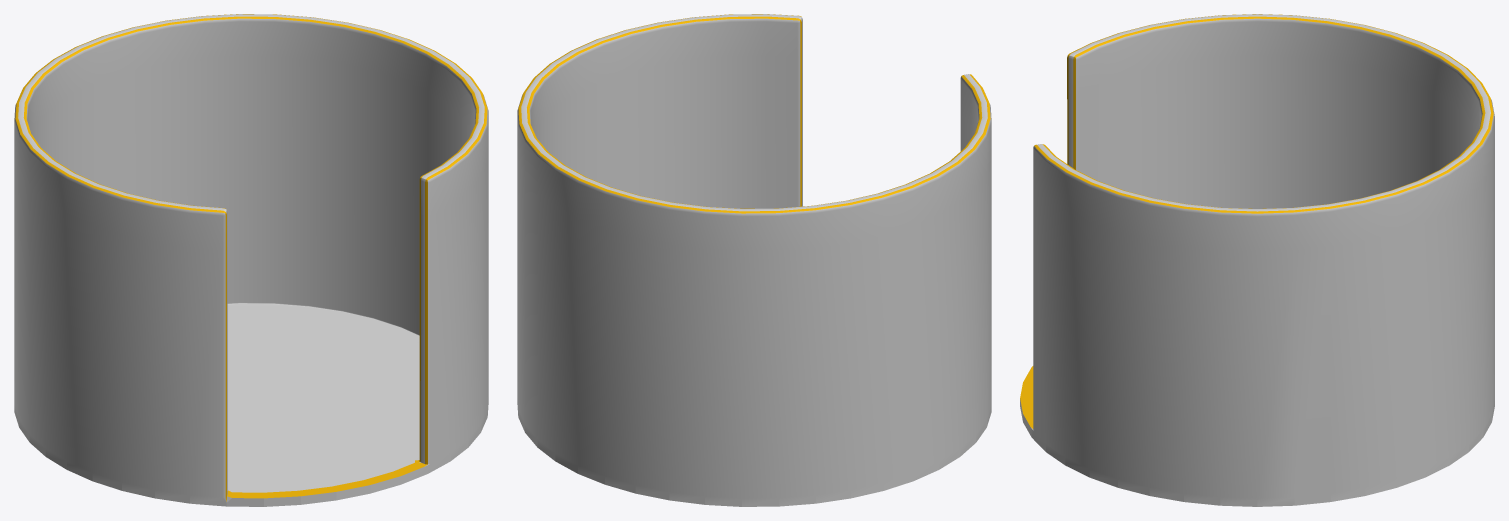
Rendered from elevatorPlatform2.fbx.
3 views of the same model, side by side, from view 1: azimuth 30°, elevation 25°; view 2: azimuth 150°, elevation 25°; view 3: azimuth 270°, elevation 25° (orthographic).
Visible parts, largest first — view 1: polySurface33; view 2: polySurface33; view 3: polySurface33.
Boxes of the visible parts, x1=… form: polySurface33: x1=14, y1=14, x2=488, y2=506; polySurface33: x1=517, y1=14, x2=991, y2=506; polySurface33: x1=1020, y1=14, x2=1494, y2=506.
Bounding box in the file's own units: 700 × 478 × 700.
2 materials, 1 textured.
